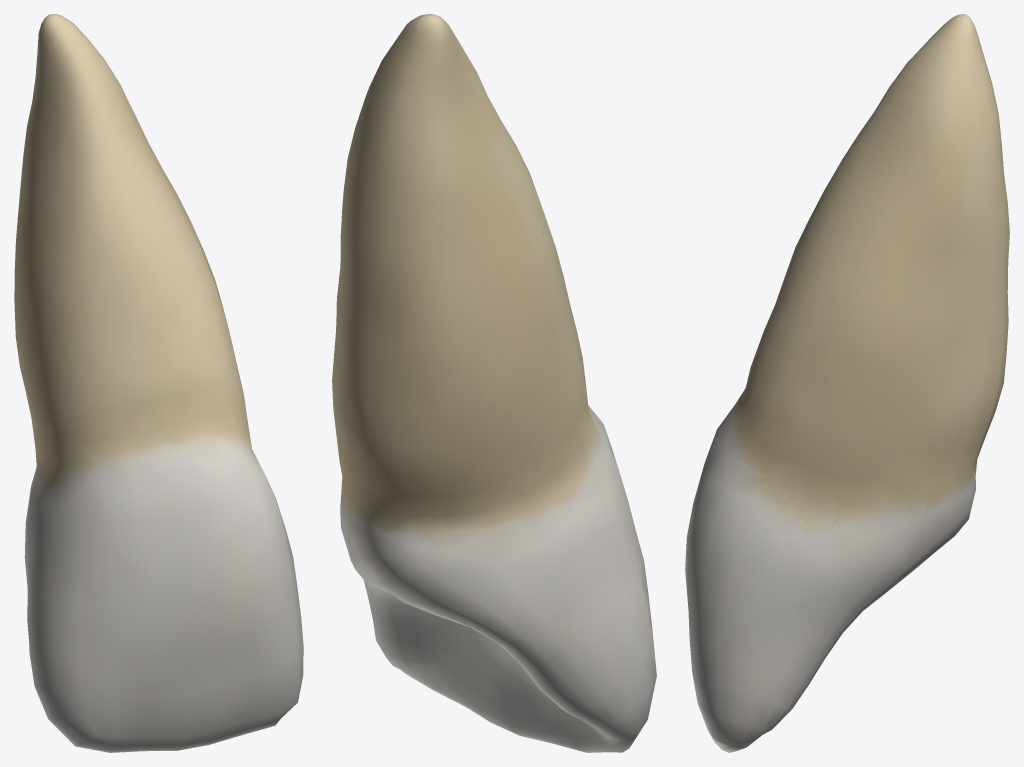
The model's file is tooth-11.glb.
The picture shows the model from 3 angles, left to right: view 1: azimuth 30°, elevation 25°; view 2: azimuth 150°, elevation 25°; view 3: azimuth 270°, elevation 25°; orthographic projection. The views are drawn at different scales.
Visible parts, largest first — view 1: polySurface2_UL1_0; view 2: polySurface2_UL1_0; view 3: polySurface2_UL1_0.
Boxes of the visible parts, x1,y1,x2,y2 form: polySurface2_UL1_0: (14, 14, 303, 752); polySurface2_UL1_0: (332, 14, 656, 752); polySurface2_UL1_0: (685, 14, 1009, 752).
Bounding box in the file's own units: 0.2879 × 0.7834 × 0.3327.
Materials: 1 (1 with a texture image).
